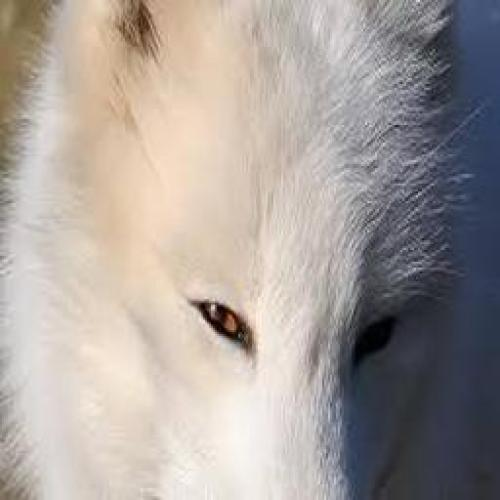arctic_fox-endangered: (13, 15, 443, 500)
